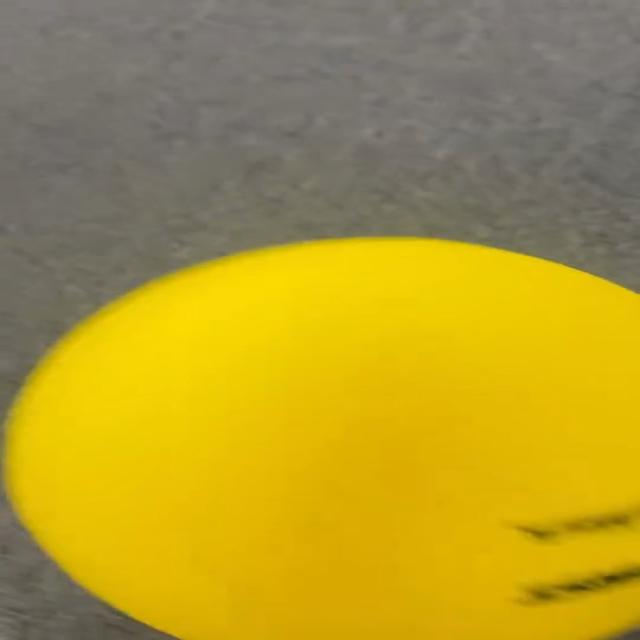Fuels: (6, 236, 637, 636)
